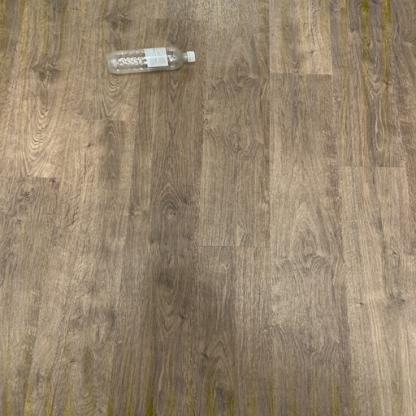trash: (104, 46, 196, 76)
